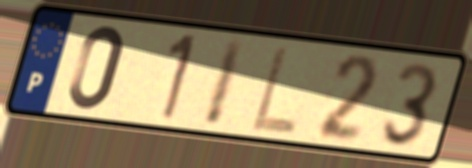0: (65, 23, 126, 113)
1: (160, 33, 199, 124)
2: (316, 52, 381, 146)
3: (378, 62, 443, 150)
I: (199, 35, 250, 129)
L: (248, 43, 302, 137)
